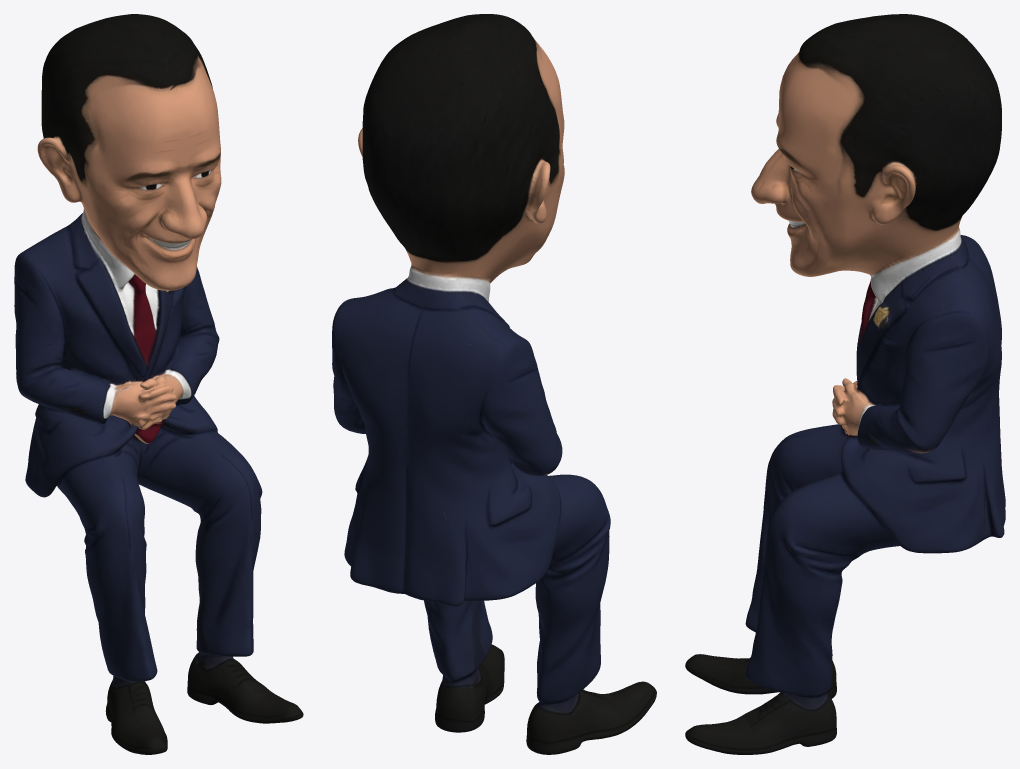
The model's file is bahlil.glb.
3 views of the same model, side by side, from view 1: azimuth 30°, elevation 25°; view 2: azimuth 150°, elevation 25°; view 3: azimuth 270°, elevation 25° (orthographic). The views are drawn at different scales.
Bounding box in the file's own units: 0.5949 × 1.9 × 0.7944.
1 material, 1 textured.
